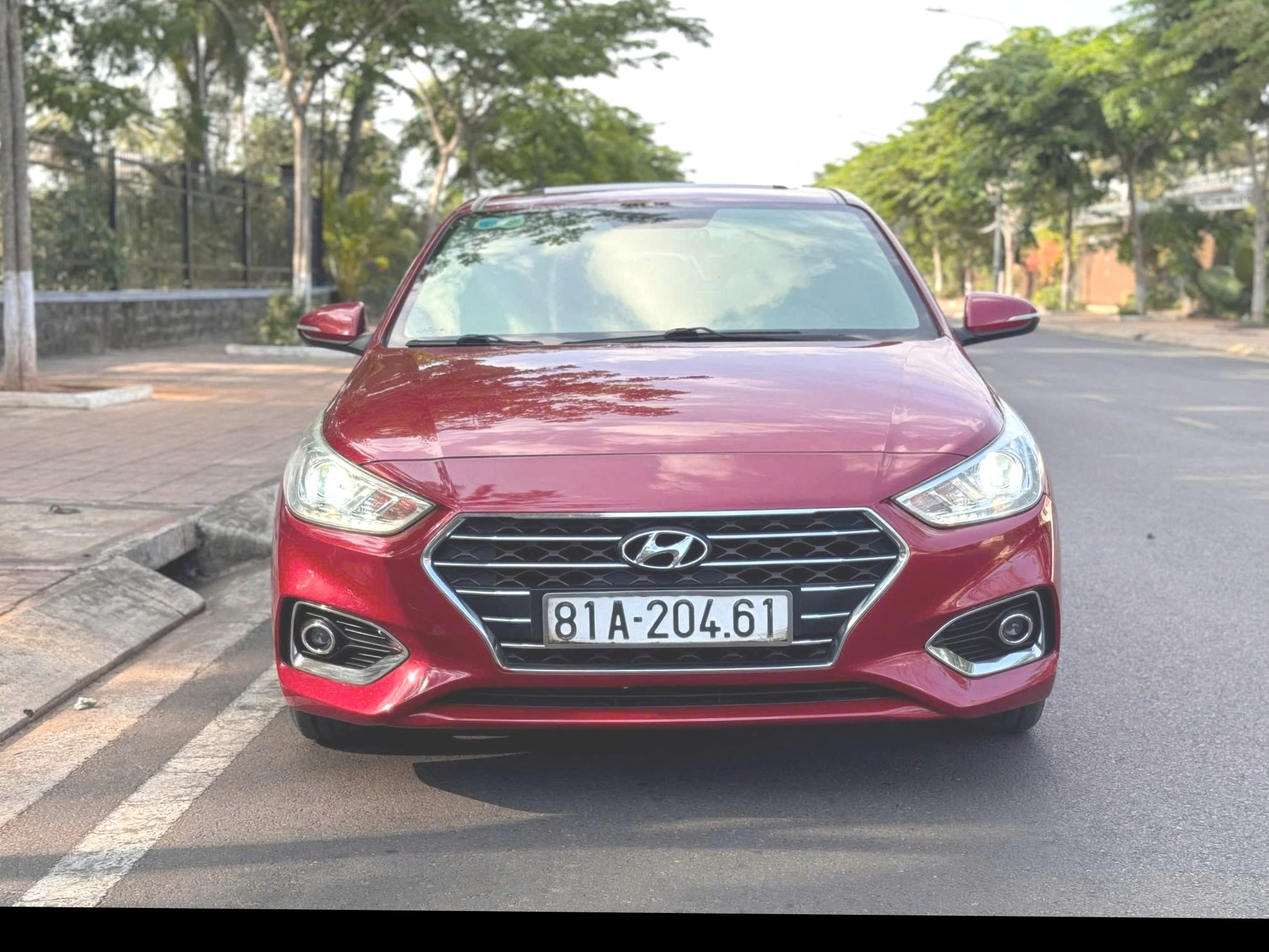Bien-so: (560, 626, 810, 675)
